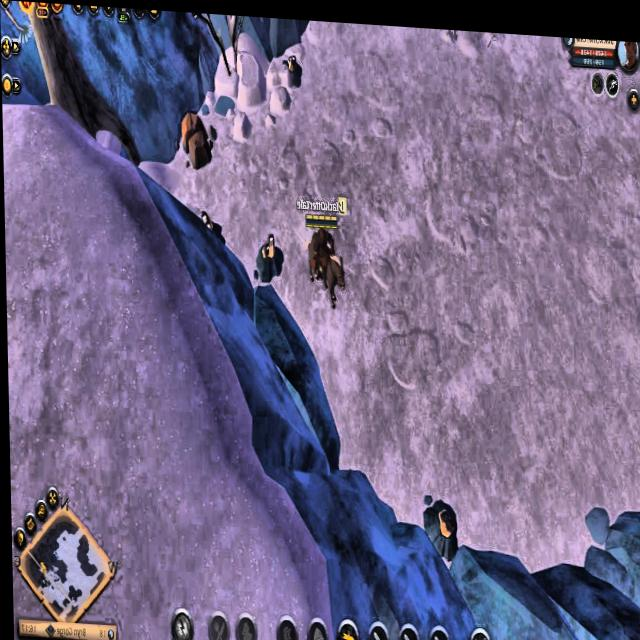copperore: (421, 490, 458, 560), (253, 224, 283, 280), (198, 200, 221, 240), (281, 47, 301, 80)
limestone: (178, 107, 214, 165)
